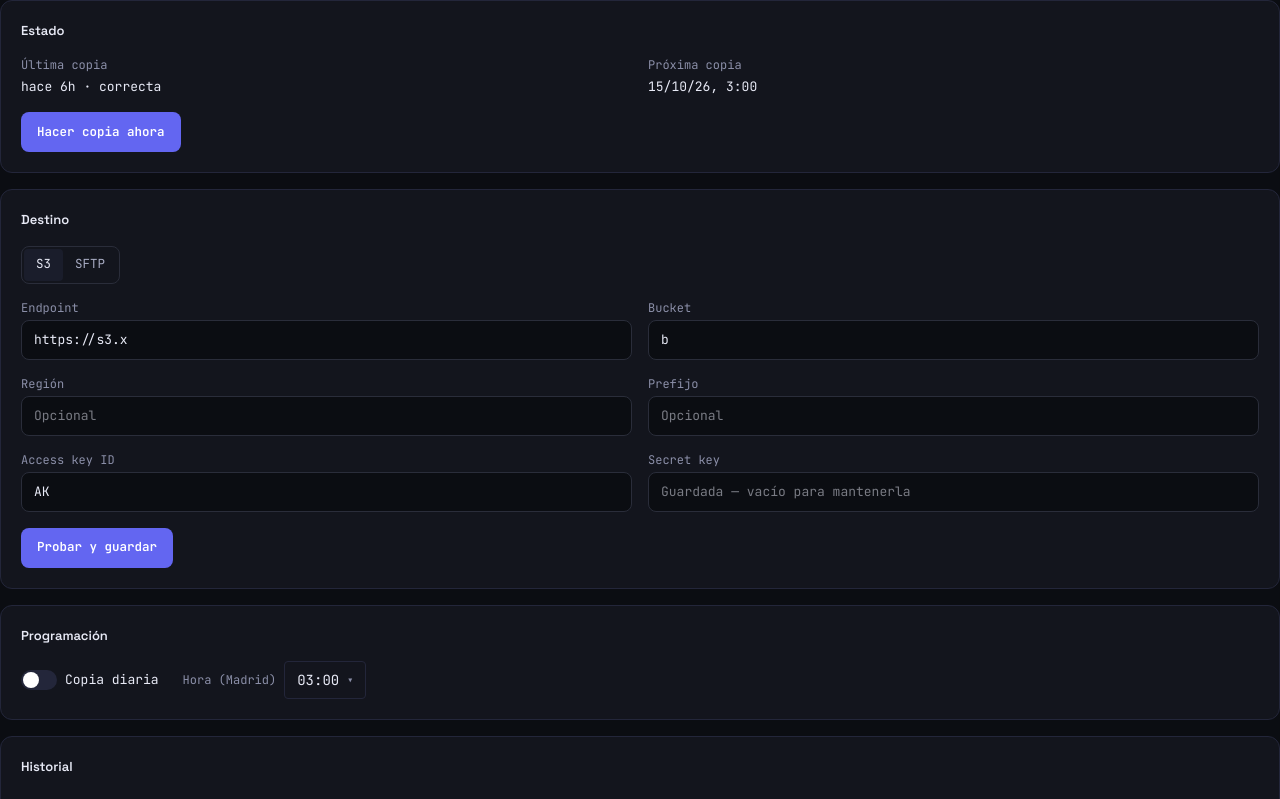
Test: ConfiguracionBackups › el interruptor activa la copia diaria a la hora elegida
Click the switch named "Copia diaria". click: (39, 680)
box: [21,670,57,690]
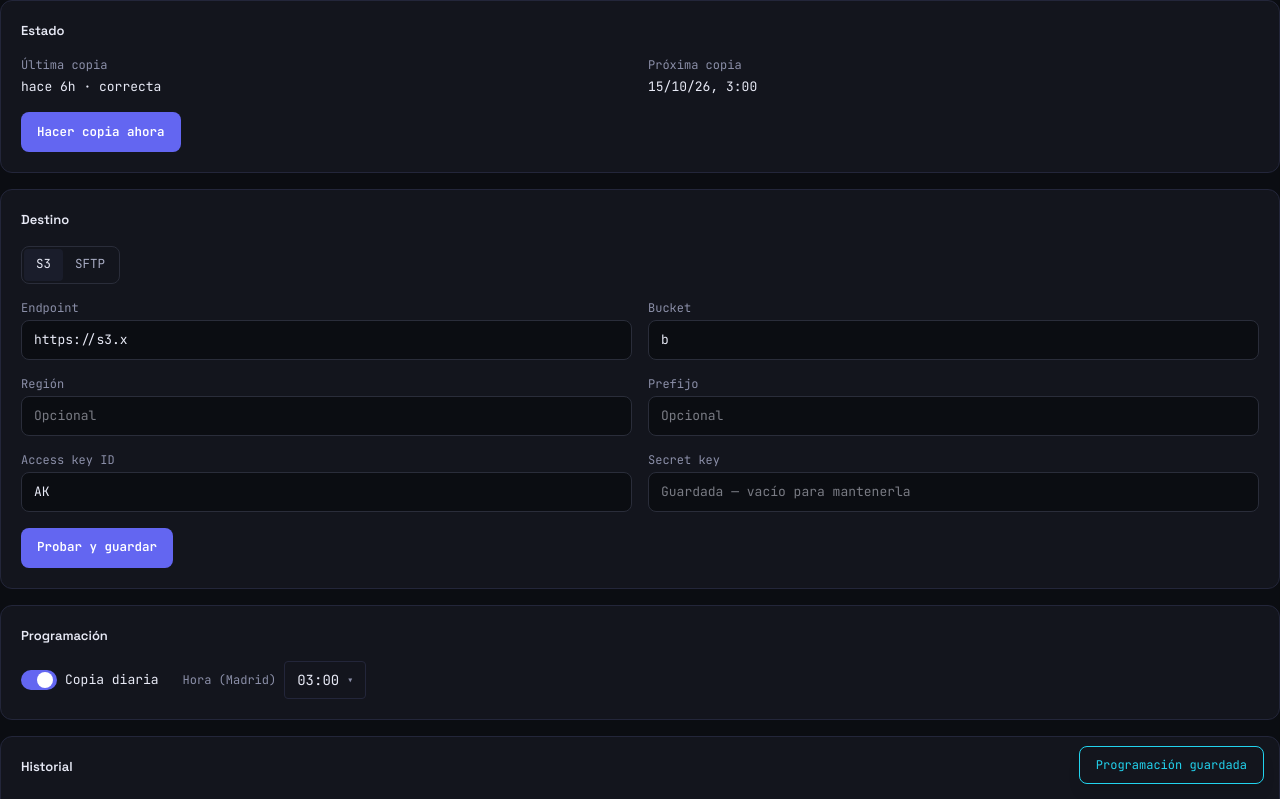
Expected: the text "Programación guardada" is shown, [1079,746,1264,784]
